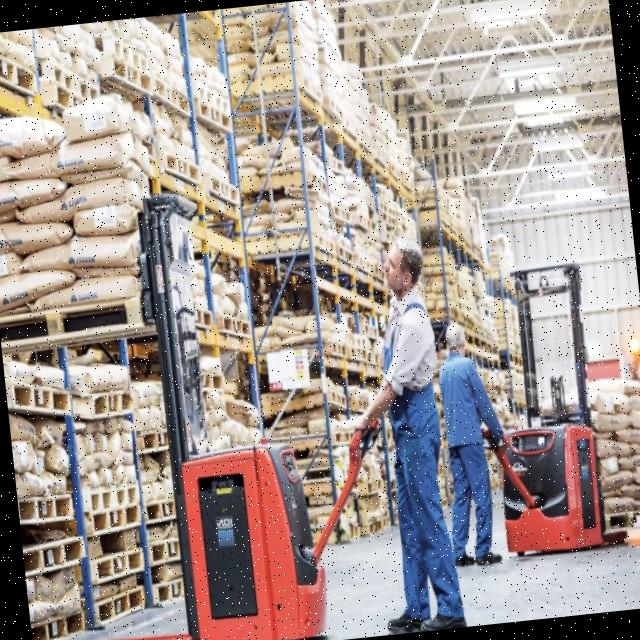Person: (336, 232, 468, 636), (428, 316, 518, 568)
